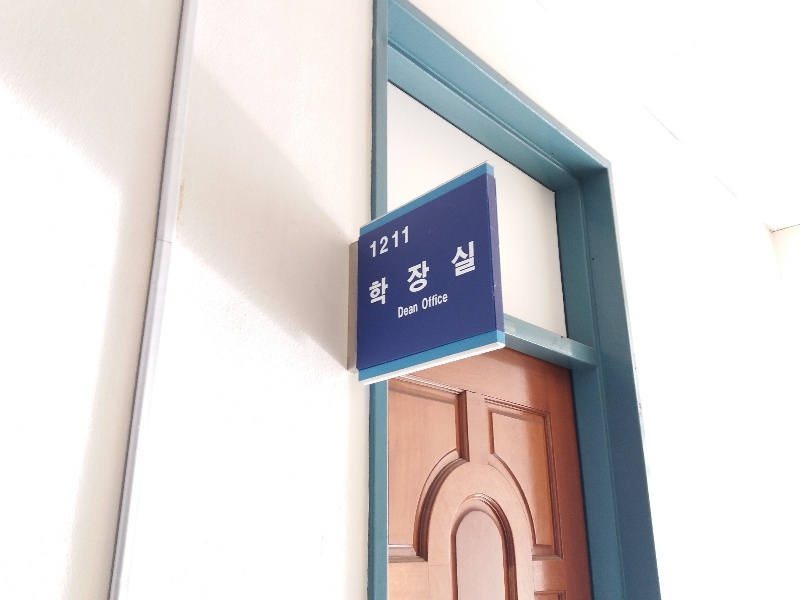text: (369, 240, 384, 311), (385, 240, 400, 311), (401, 240, 416, 311), (417, 240, 432, 311), (433, 240, 448, 311), (449, 240, 464, 311), (465, 240, 476, 311), (369, 225, 384, 260), (385, 225, 400, 260), (433, 291, 449, 311), (401, 225, 409, 260), (401, 304, 416, 319), (421, 291, 432, 311), (397, 304, 400, 319), (417, 304, 419, 319)
